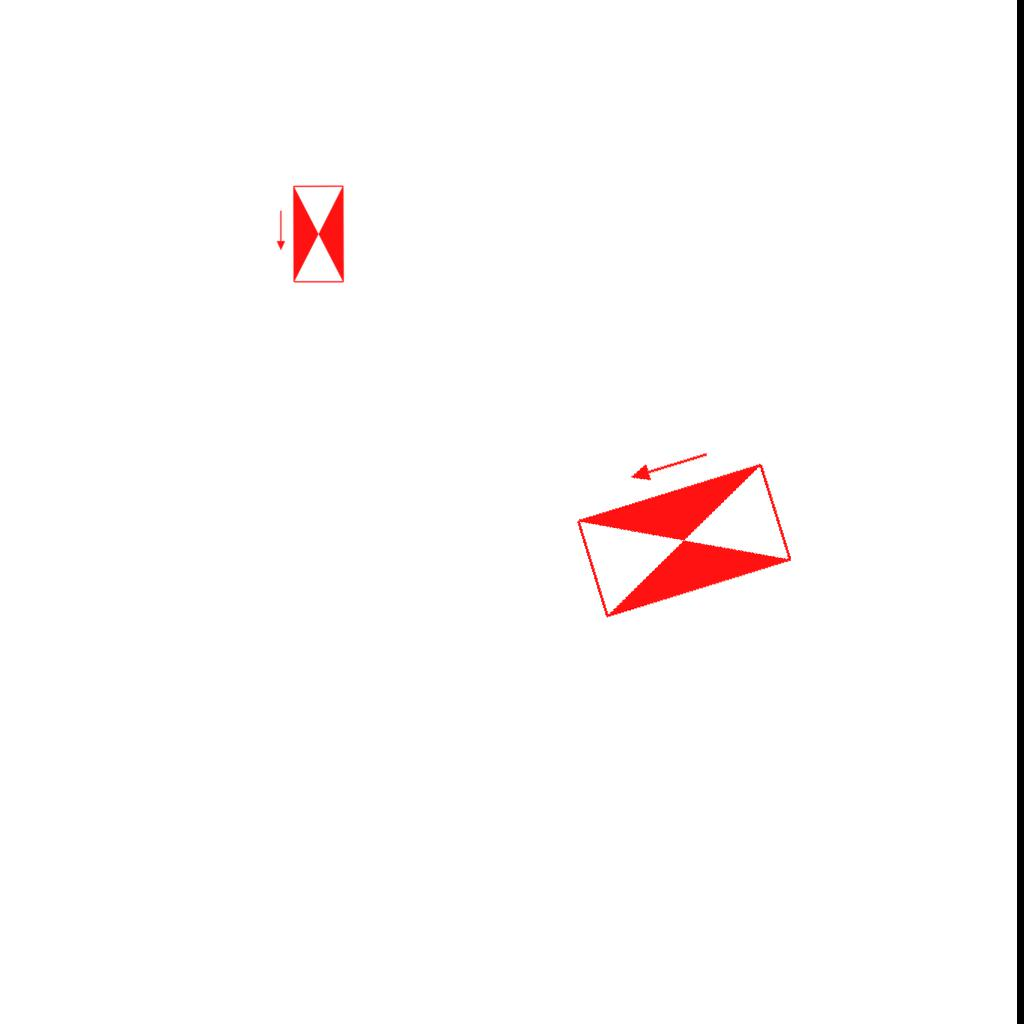Fluchtwegpiktogramm: (558, 424, 801, 626), (274, 182, 347, 286)
